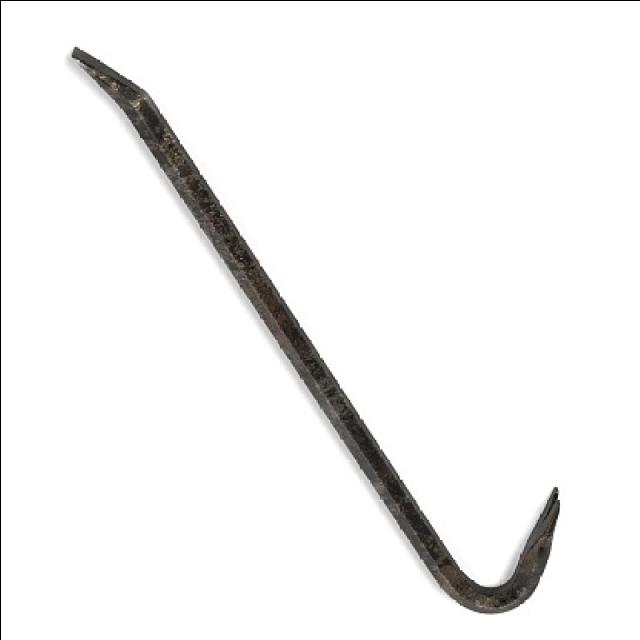Linggis: (72, 44, 563, 616)
